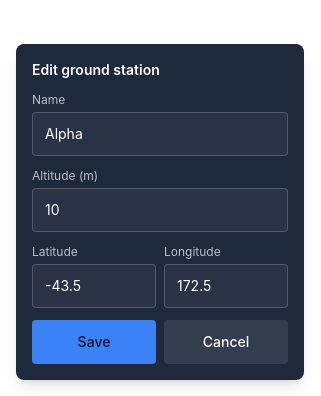
Scenario: editing a ground station › rejects an out-of-range latitude
The width and height of the screenshot is (321, 396).
Replace the text in the field labelled "Latitude" with "120". click: (94, 286)
box: [32, 264, 156, 308]
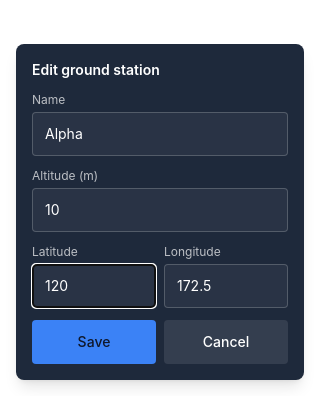
Click the button "Save". click: (94, 342)
box: [32, 320, 156, 364]
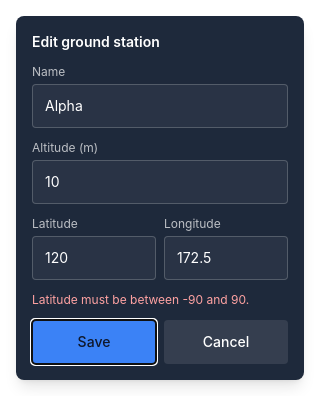
Expected: the message reads "Latitude must be between -90 and 90.", [32, 292, 249, 307]
